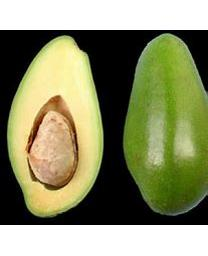avocado: (7, 34, 105, 219), (122, 32, 207, 217)
